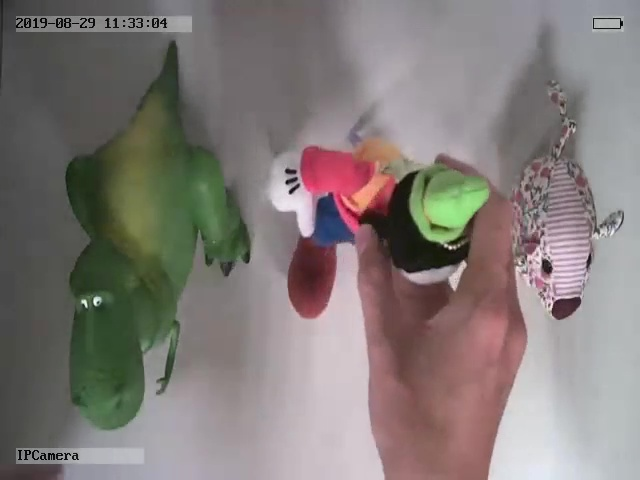goofy: (268, 137, 489, 318)
pig: (510, 78, 623, 320)
rex: (63, 39, 249, 429)
